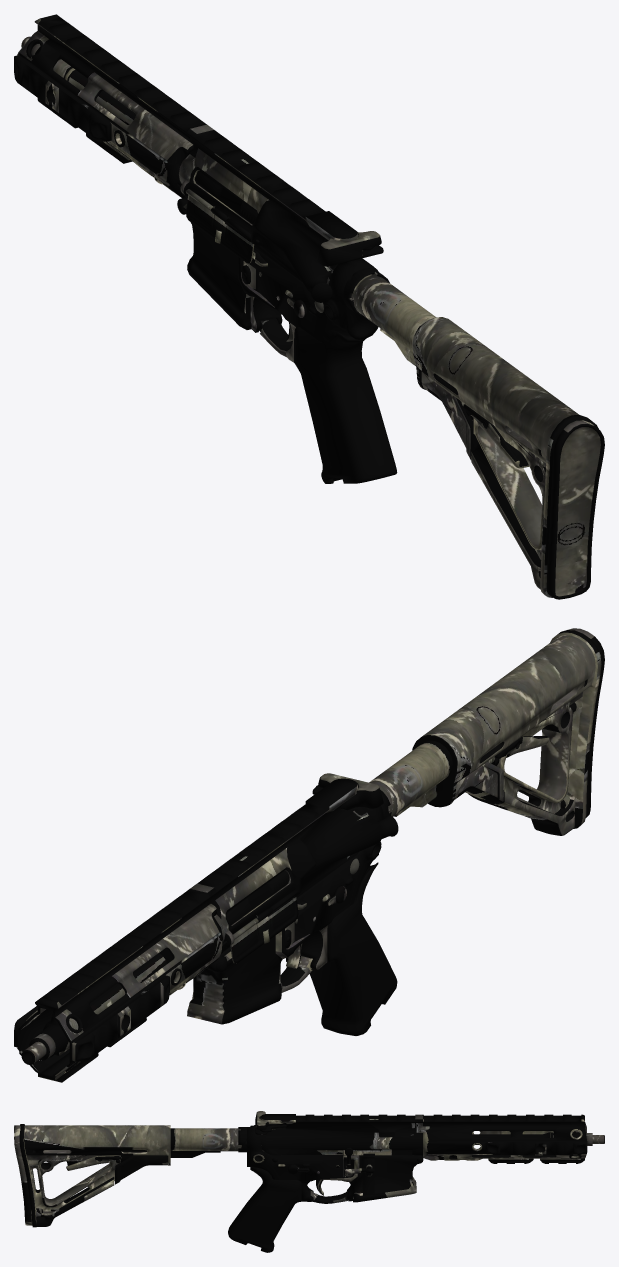
File: R4C-Snake.glb
3 renders of one model, top to bottom at view 1: azimuth 30°, elevation 25°; view 2: azimuth 150°, elevation 25°; view 3: azimuth 270°, elevation 25°, orthographic. The views are drawn at different scales.
Parts seen in each view (by area): view 1: R4C Snake; view 2: R4C Snake; view 3: R4C Snake.
Part boxes in pixels (x1=…): R4C Snake: x1=14, y1=14, x2=604, y2=599; R4C Snake: x1=14, y1=628, x2=604, y2=1082; R4C Snake: x1=14, y1=1111, x2=604, y2=1252.
Bounding box in the file's own units: 0.0476 × 0.1397 × 0.5675.
1 material, 1 textured.
